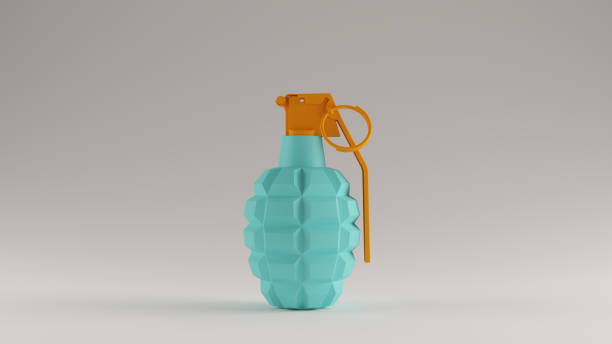e1: (242, 90, 378, 313)
